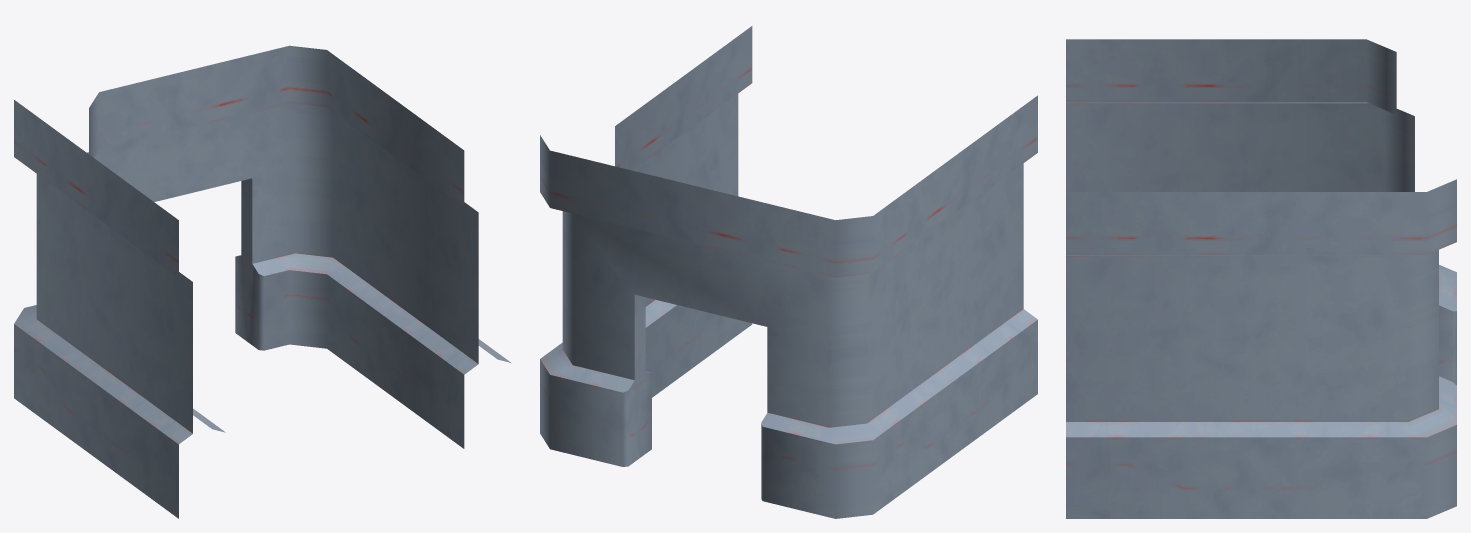
File: Wall_DoorEntrance_End_A_2.glb
3 renders of one model, left to right at view 1: azimuth 30°, elevation 25°; view 2: azimuth 150°, elevation 25°; view 3: azimuth 270°, elevation 25°, orthographic. The views are drawn at different scales.
Parts seen in each view (by area): view 1: Wall_DoorEntrance_End_A_2; view 2: Wall_DoorEntrance_End_A_2; view 3: Wall_DoorEntrance_End_A_2.
Part boxes in pixels (bbox=[...]): Wall_DoorEntrance_End_A_2: bbox=[14, 45, 510, 518]; Wall_DoorEntrance_End_A_2: bbox=[540, 26, 1037, 518]; Wall_DoorEntrance_End_A_2: bbox=[1066, 39, 1456, 518].
Size of the model in its own units: 7 by 6 by 6.5.
1 material, 1 textured.
